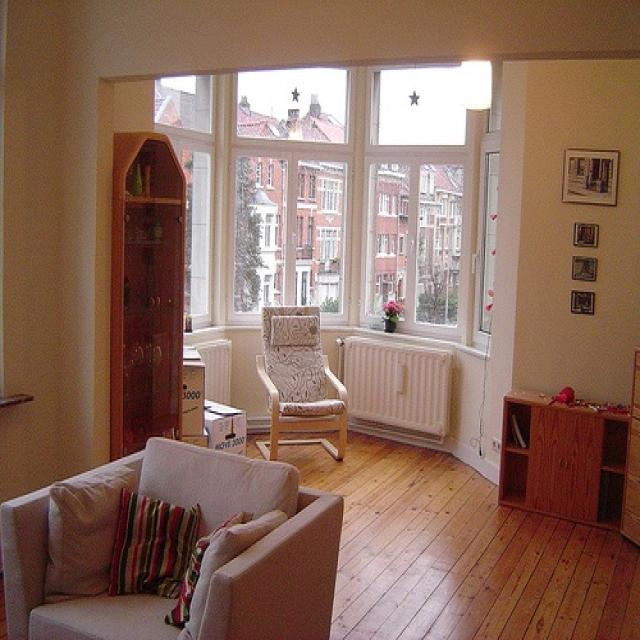chair: (5, 428, 352, 638), (251, 306, 349, 464)
pottedplant: (379, 300, 403, 331)
